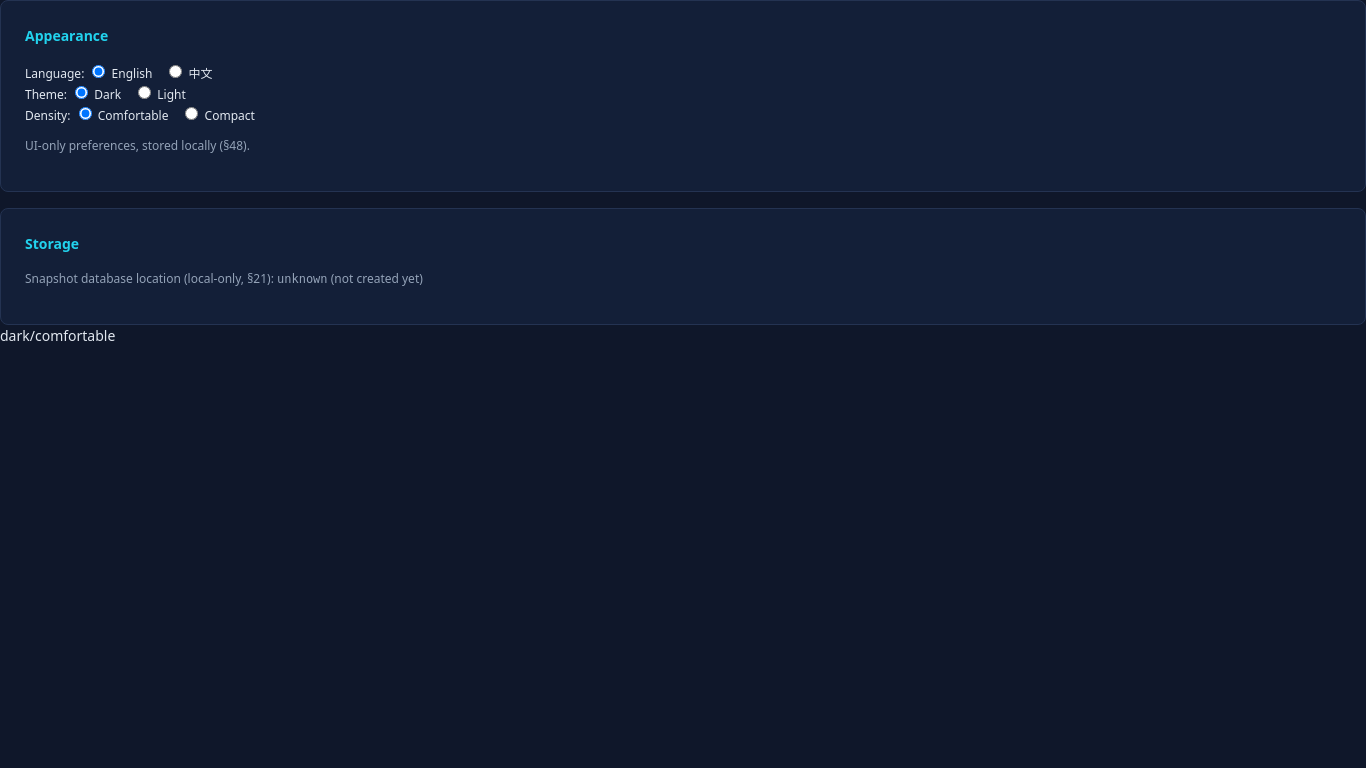
it: SettingsPage (M12 §48/§11) › theme switch applies data-theme and persists (§11)
Click the text "Light": click(160, 94) [133, 86, 186, 103]
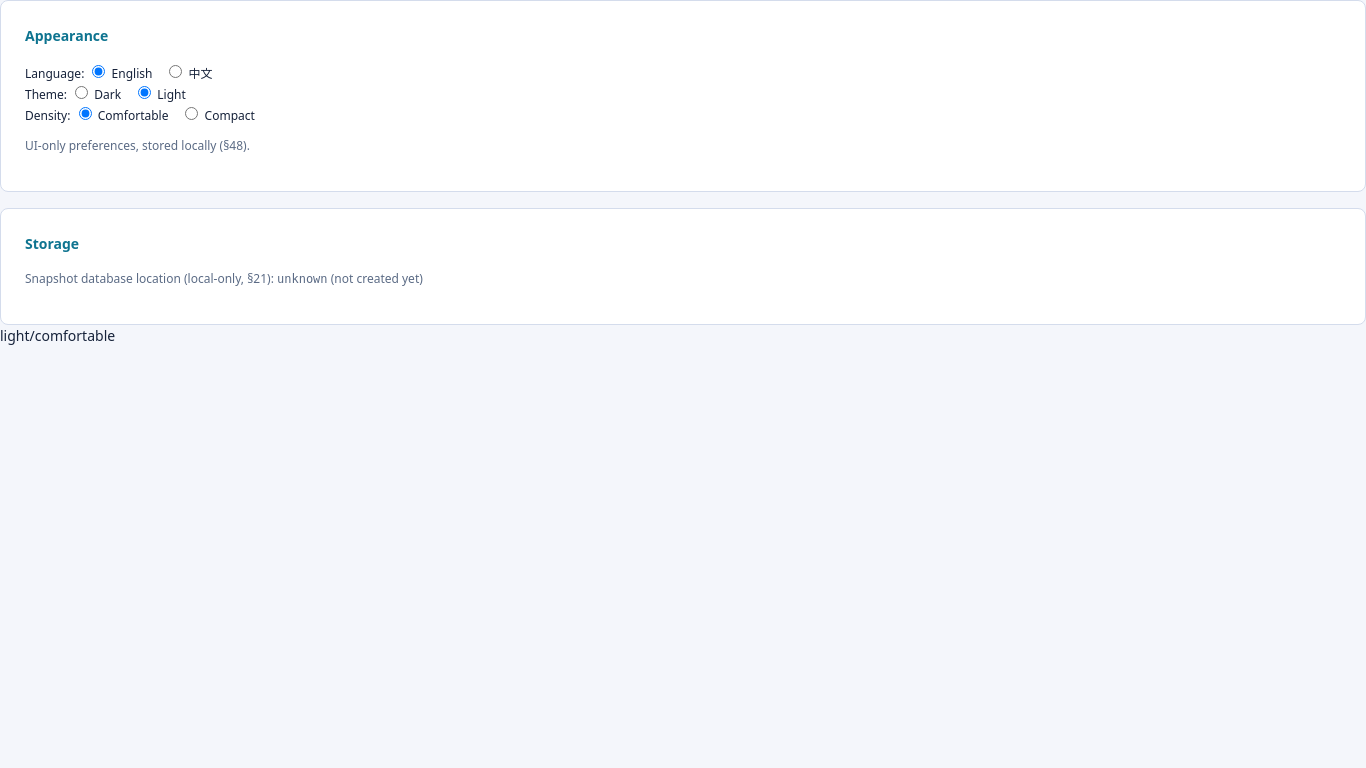
expect the text with test id "probe" reads "light/comfortable": met, box [0, 326, 115, 345]
